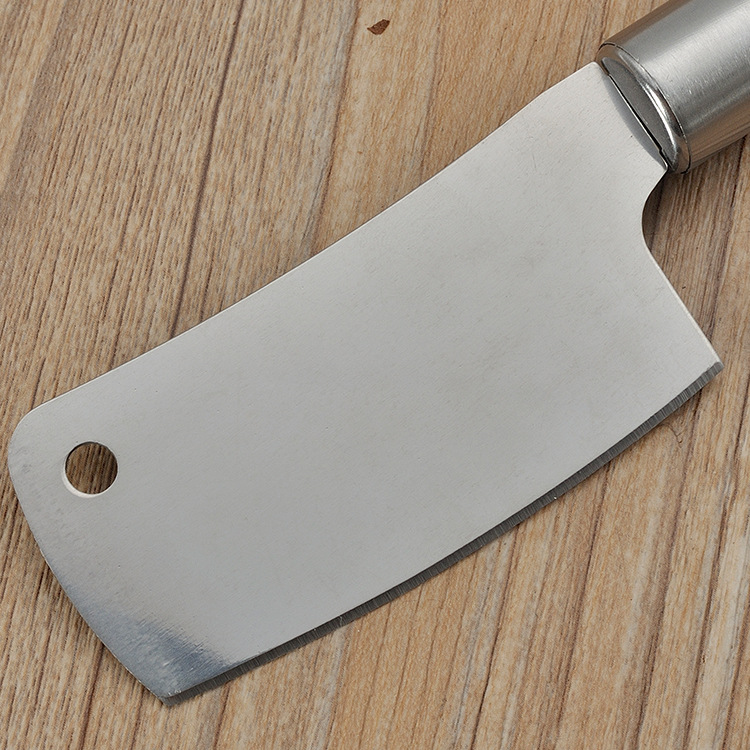knief: (54, 12, 720, 715)
